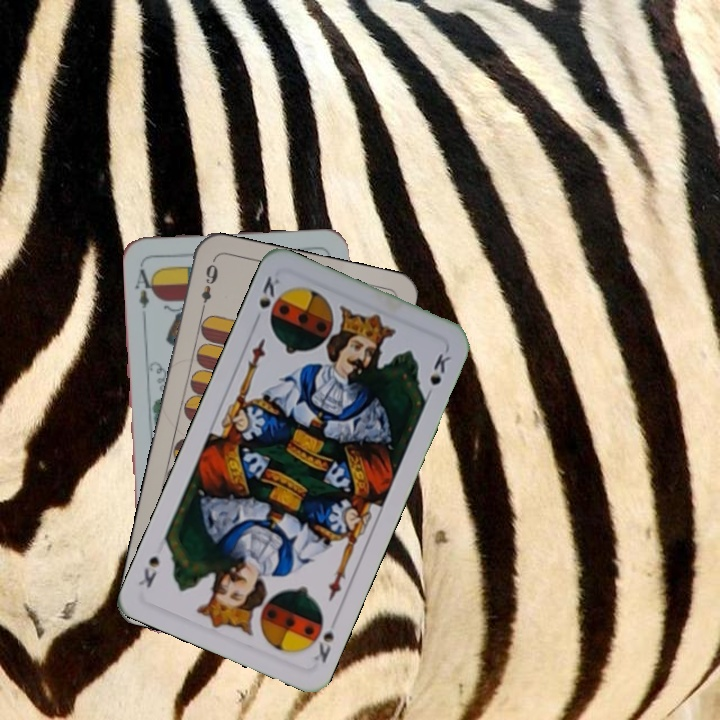E9: (197, 257, 221, 316)
EA: (130, 260, 158, 311)
SK: (309, 612, 338, 666), (255, 272, 283, 311)
